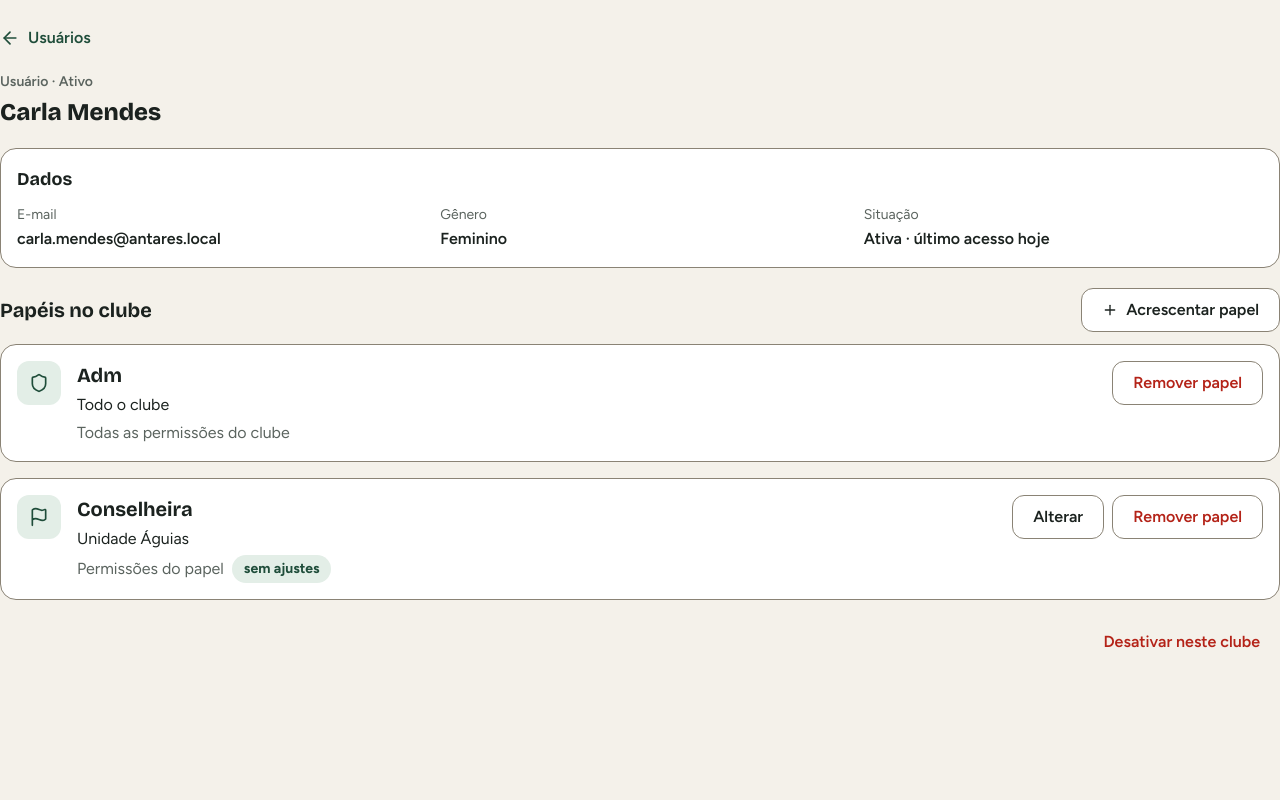
it: ficha do usuário › Remover papel › confirma, grava { ativo: false }, fecha o diálogo e o cartão some
Step 1. Click the button "Remover papel" next to "Alterar" → {"x": 1188, "y": 517}, box [1112,495,1263,539]
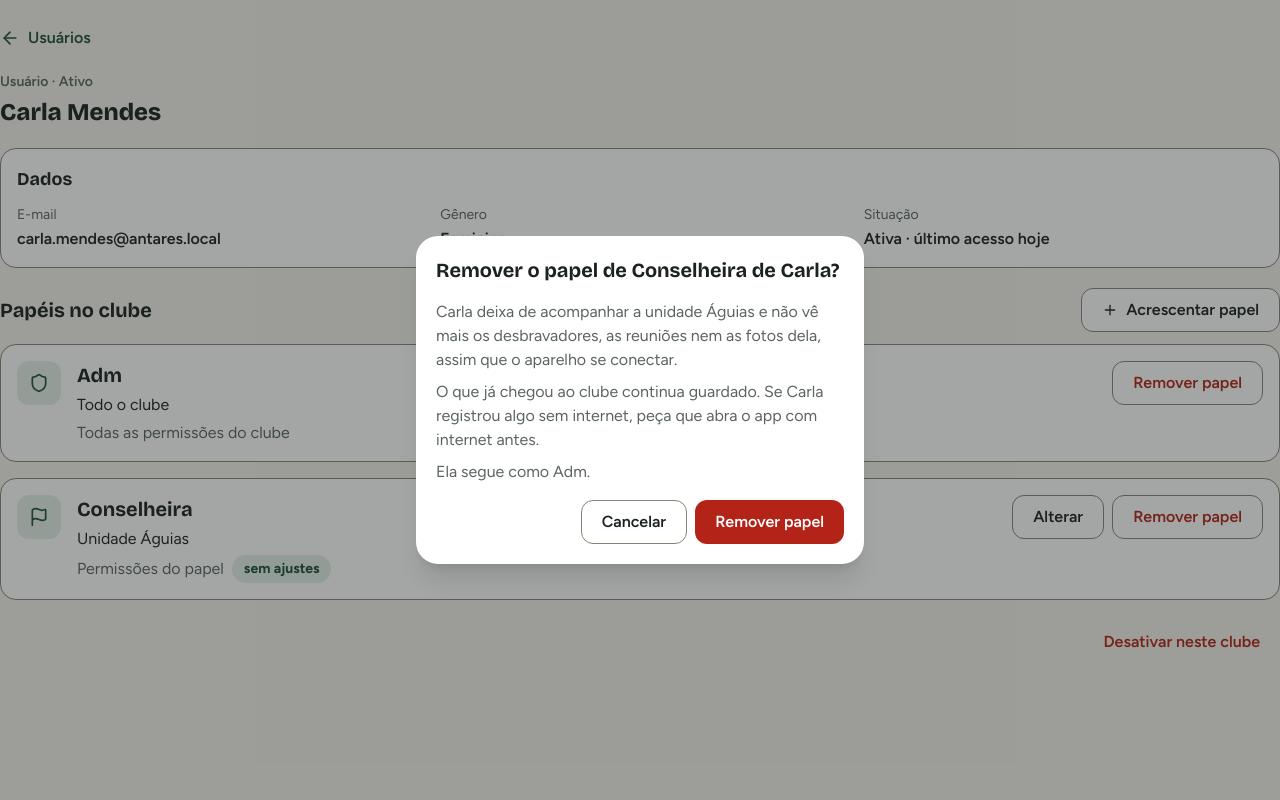
Expected: the text "Ela segue como Adm." is shown, [436,462,590,481]
Step 2. Click the button "Remover papel" → {"x": 770, "y": 522}, box [695,500,844,544]
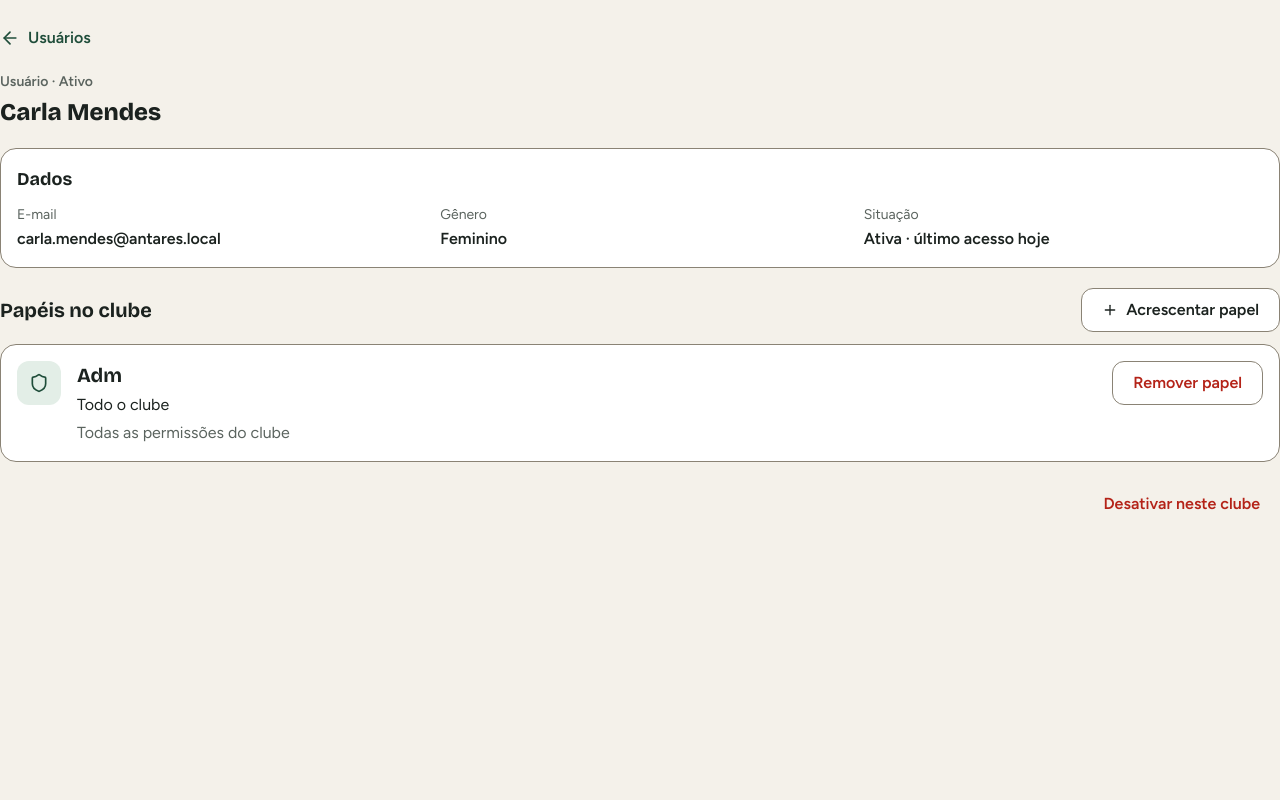
Expected: the element "Adm" is shown, [0,344,1279,462]
Expected: the dialog is gone
Expected: the heading "Conselheira" is gone
